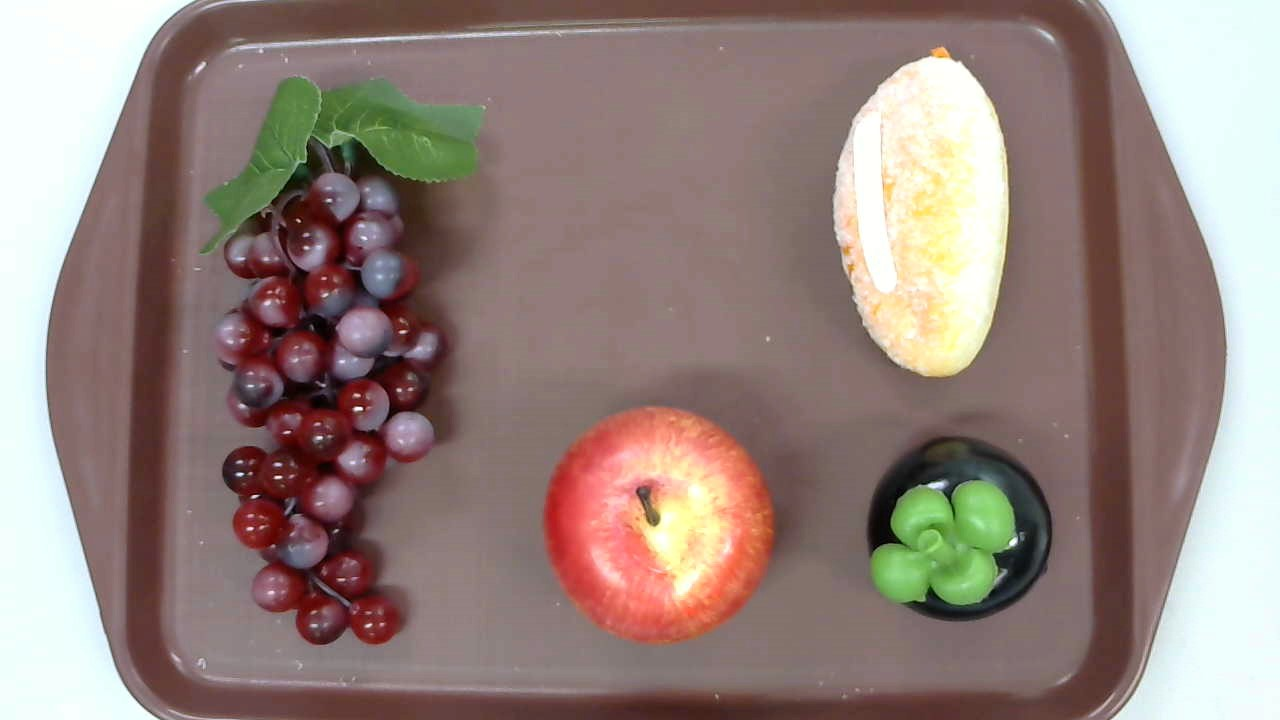coconut: (831, 45, 1010, 376)
grape: (199, 76, 487, 647)
mangosteen: (867, 436, 1054, 623)
red apple: (541, 404, 778, 648)
